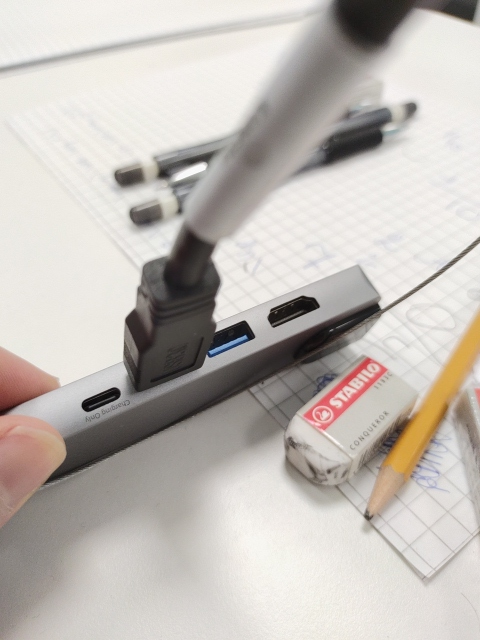HDMI: (267, 295, 320, 329)
USB: (207, 319, 253, 360)
USB-C: (81, 386, 122, 413)
